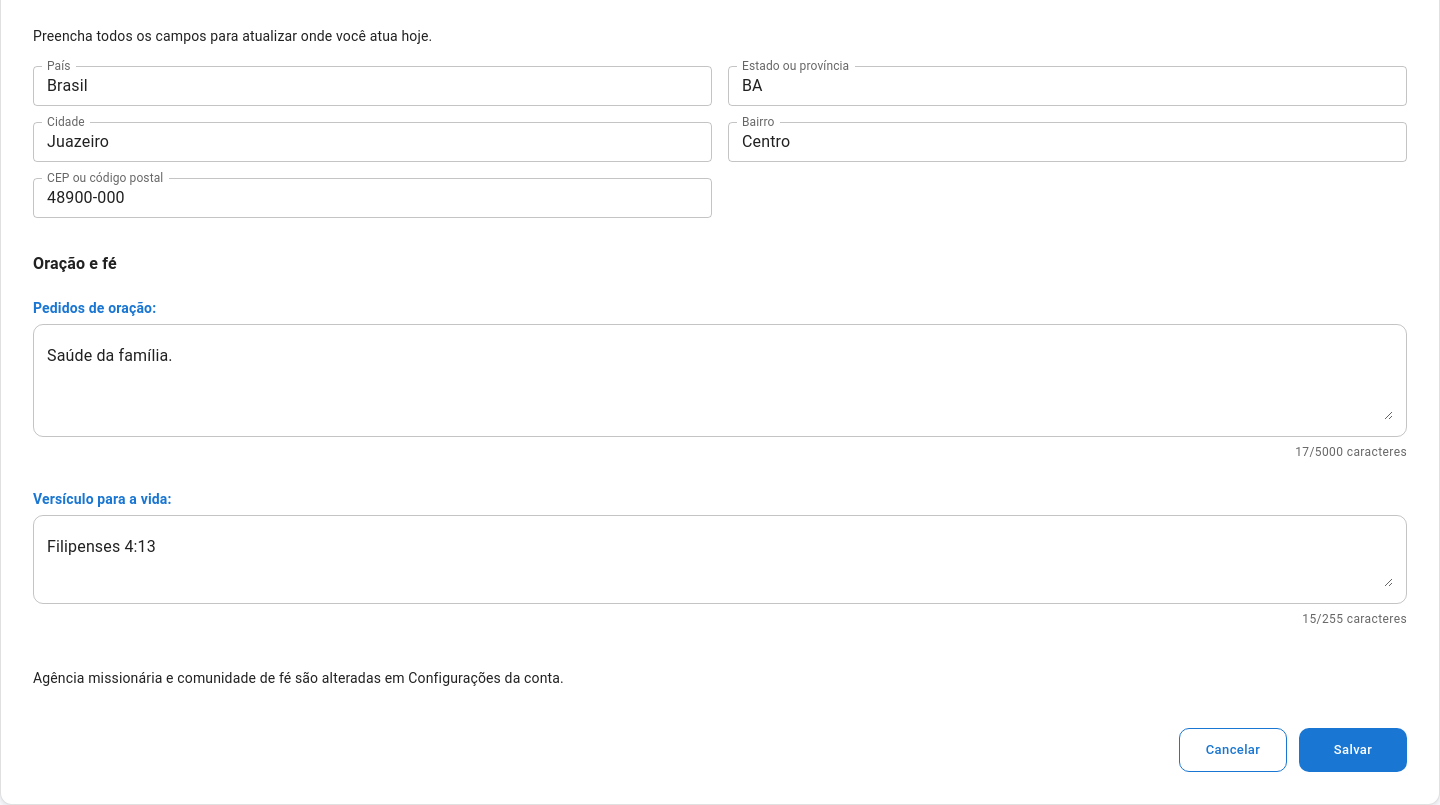
Test: ProfileAboutEditSection › keeps the form open and shows the error when the API rejects the save
(page scrolled)
Type "!" into the text box labelled "Versículo para a vida:" at point(720, 559), box [47,531,1393,587]
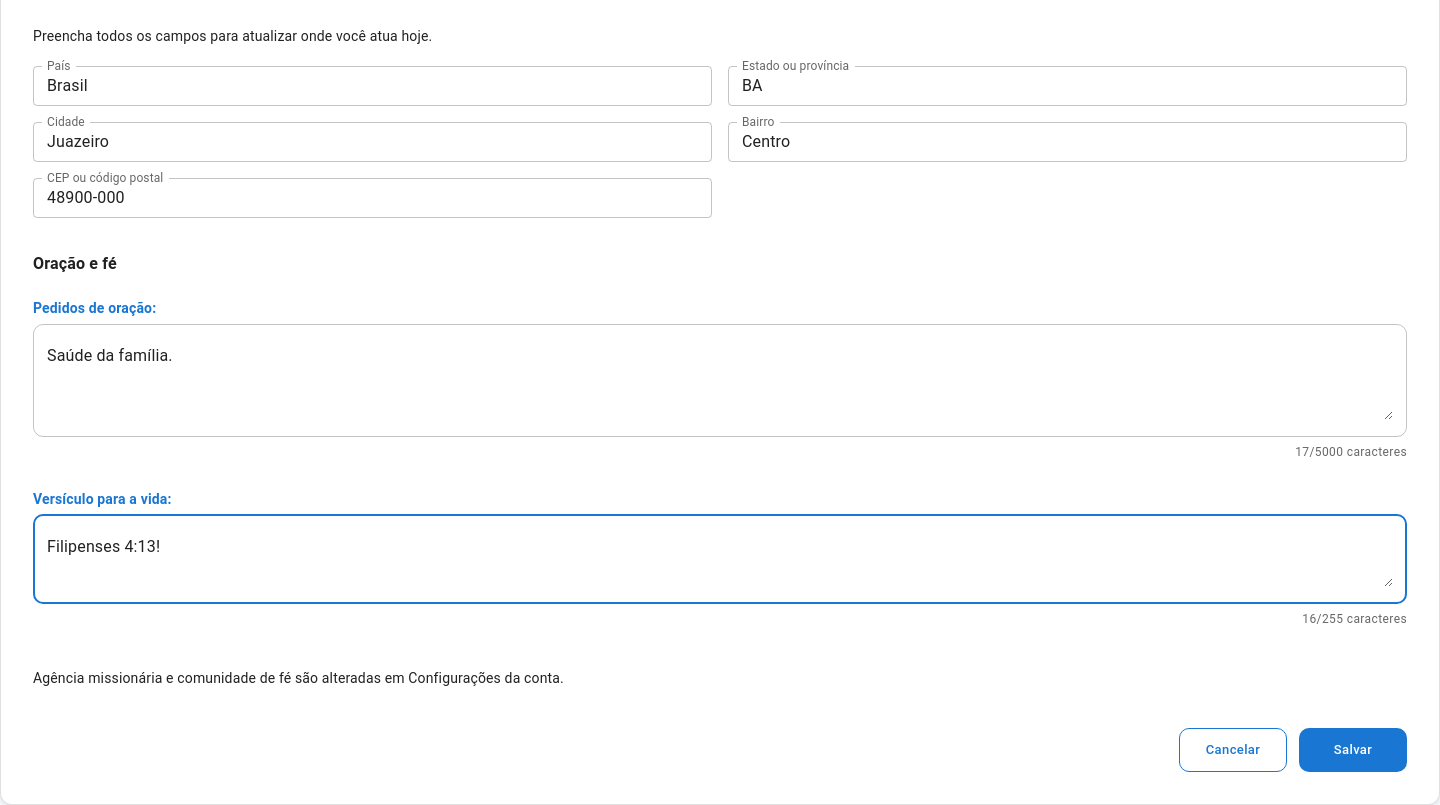
Click the button "Salvar" at point(1353, 750), box [1299,728,1407,772]
(page scrolled)
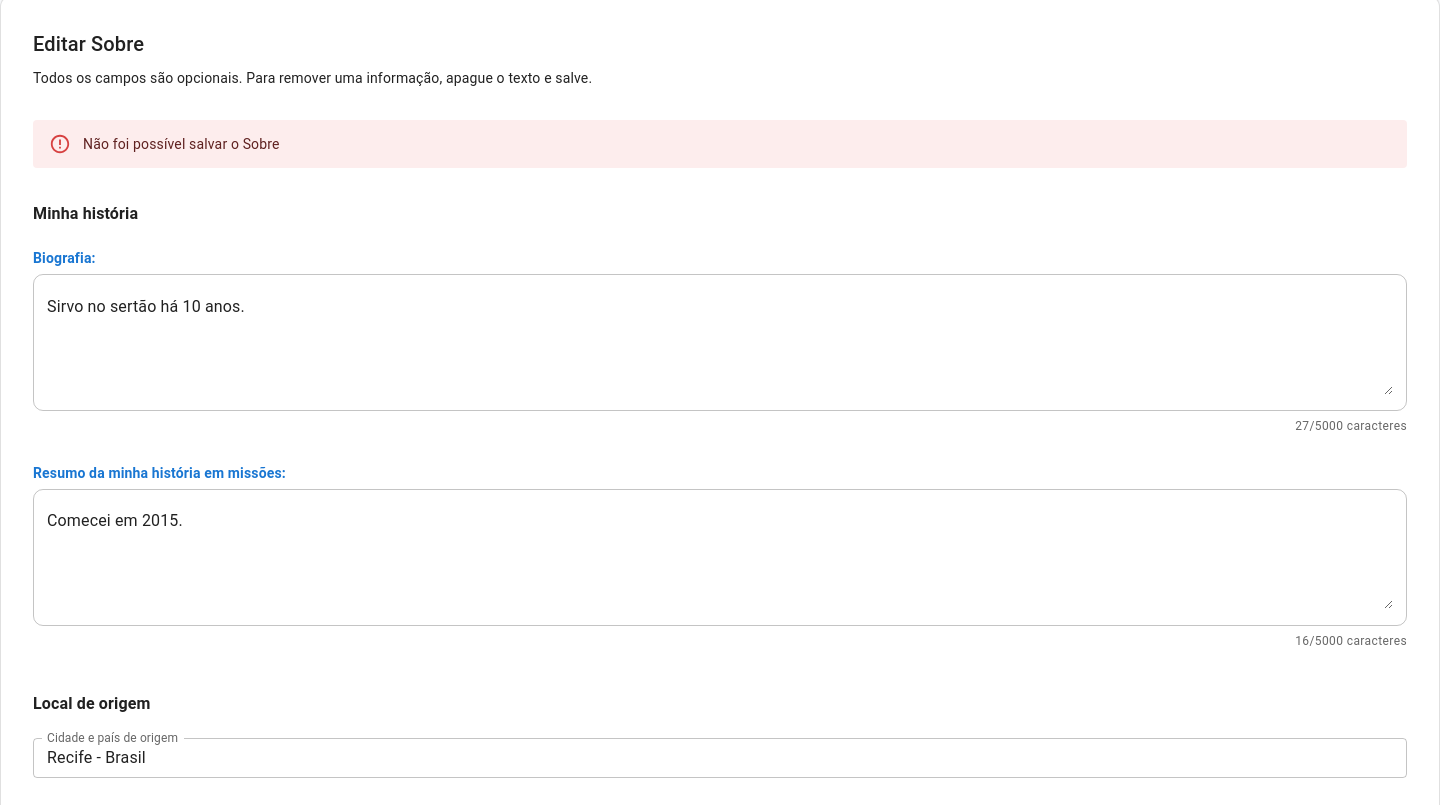
Result: the message reads "Não foi possível salvar o Sobre" at [83,136,280,152]
